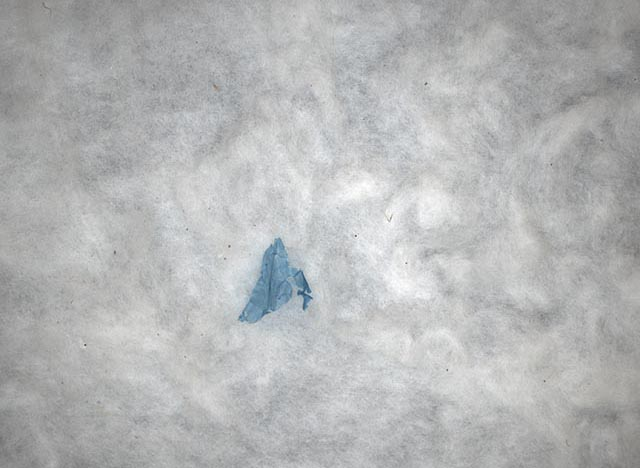plastic film: (238, 236, 312, 323)
